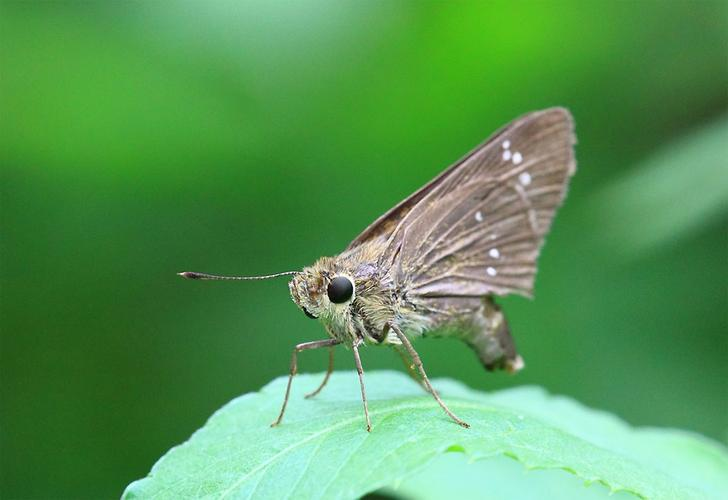Hesperiidae: (186, 101, 583, 434)
